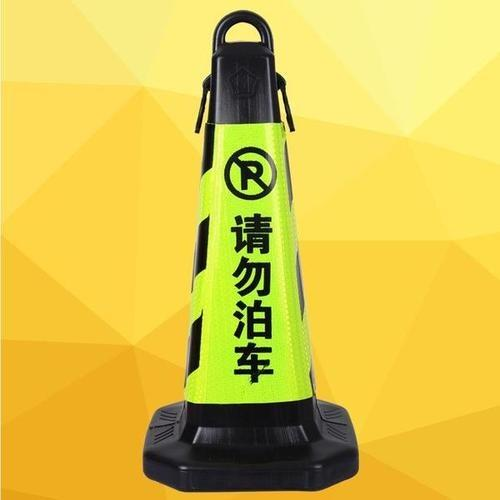cone_barrel: (143, 19, 354, 480)
